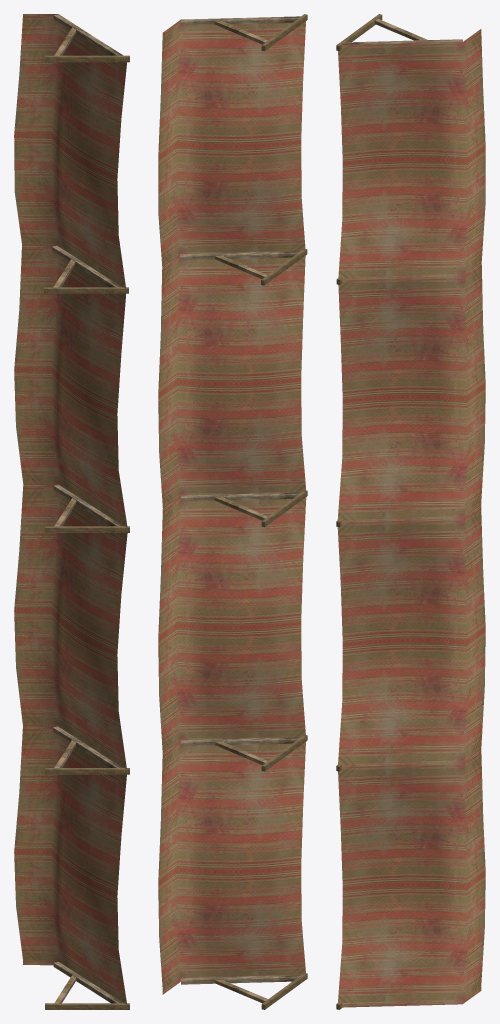
File: awning_desert_market_large2.glb
3 renders of one model, left to right at view 1: azimuth 90°, elevation 25°; view 2: azimuth 150°, elevation 25°; view 3: azimuth 330°, elevation 25°, orthographic.
Bounding box in the file's own units: 36.9 × 373 × 41.09.
1 material, 1 textured.
